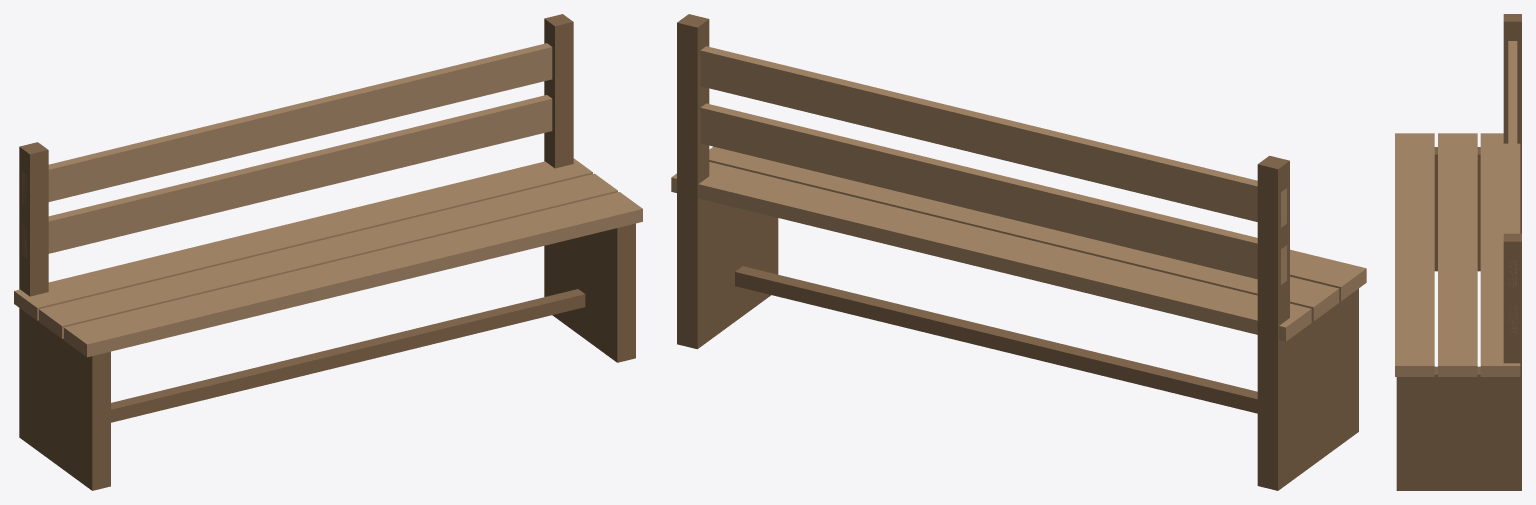
File: SM_Porch_Bench.glb
The picture shows the model from 3 angles, left to right: view 1: azimuth 30°, elevation 25°; view 2: azimuth 150°, elevation 25°; view 3: azimuth 270°, elevation 25°; orthographic projection. The views are drawn at different scales.
Parts seen in each view (by area): view 1: SM_Porch_Bench; view 2: SM_Porch_Bench; view 3: SM_Porch_Bench.
Part boxes in pixels (x1,y1,x2,y2): SM_Porch_Bench: (14, 14, 642, 490); SM_Porch_Bench: (671, 14, 1366, 490); SM_Porch_Bench: (1395, 14, 1521, 490).
Bounding box in the file's own units: 1.8 × 0.9 × 0.415.
